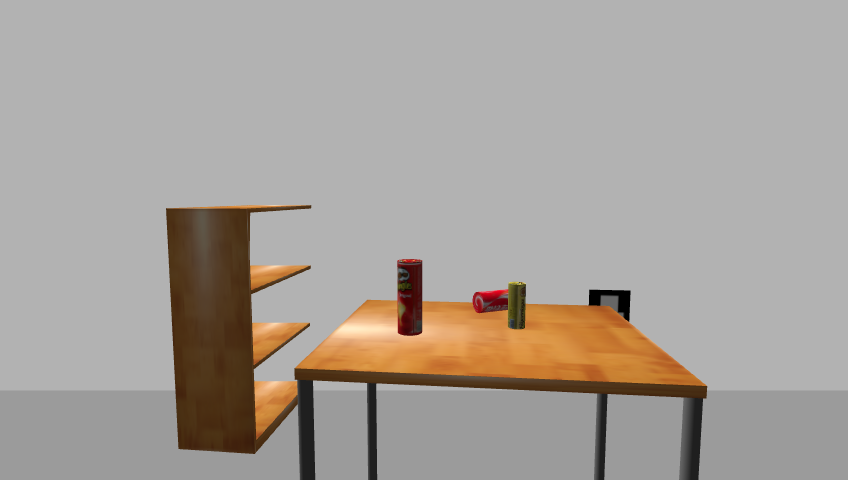aruco marker: (585, 288, 634, 325)
biscuits pack: (508, 282, 527, 330)
bookshelf: (161, 202, 319, 456)
coke can: (471, 289, 512, 315)
dinner table: (291, 298, 716, 479)
pringles can: (395, 258, 424, 337)
